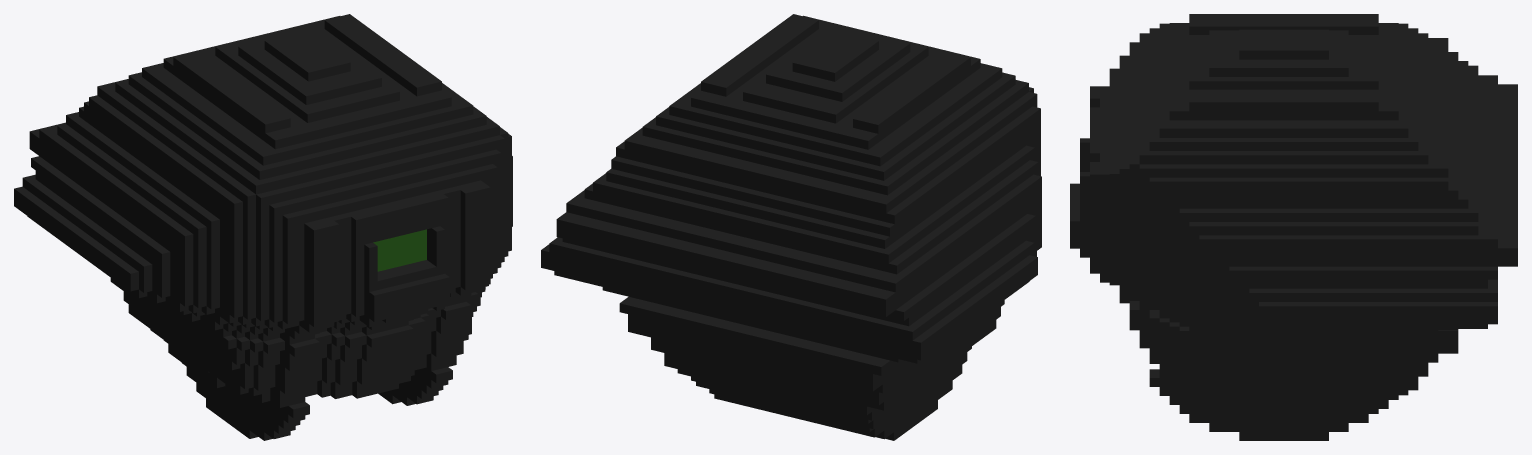
Rendered from sewra1-0-sewra1.obj.
3 renders of one model, left to right at view 1: azimuth 30°, elevation 25°; view 2: azimuth 150°, elevation 25°; view 3: azimuth 270°, elevation 25°, orthographic. The views are drawn at different scales.
Visible parts, largest first — view 1: sewra1; view 2: sewra1; view 3: sewra1.
Part boxes in pixels (x1,y1,x2,y2): sewra1: (14, 14, 512, 440); sewra1: (541, 14, 1041, 440); sewra1: (1070, 14, 1517, 440).
Size of the model in its own units: 4.5 by 4 by 4.5.
Materials: 1 (1 with a texture image).
